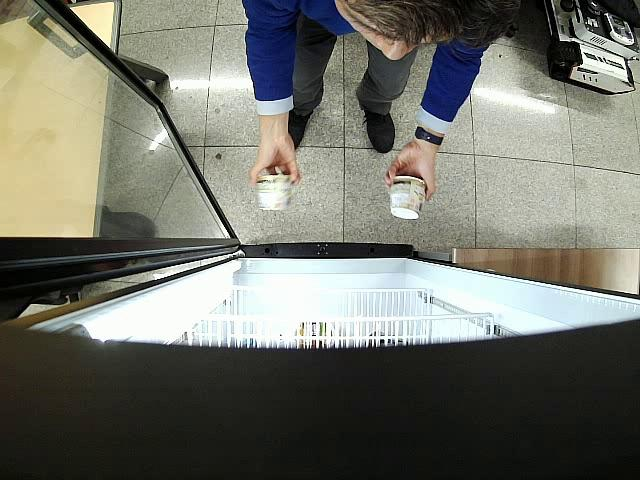00_hand: (384, 143, 434, 201), (250, 132, 301, 188)
04_chapagetti_S: (391, 175, 426, 219), (256, 175, 292, 211)
